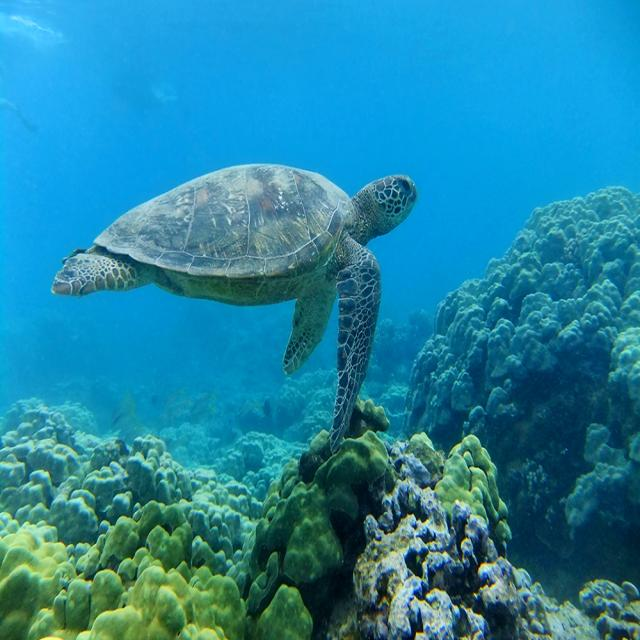sea turtle: (92, 155, 358, 380), (335, 255, 388, 442), (46, 229, 142, 325), (360, 165, 422, 248)
